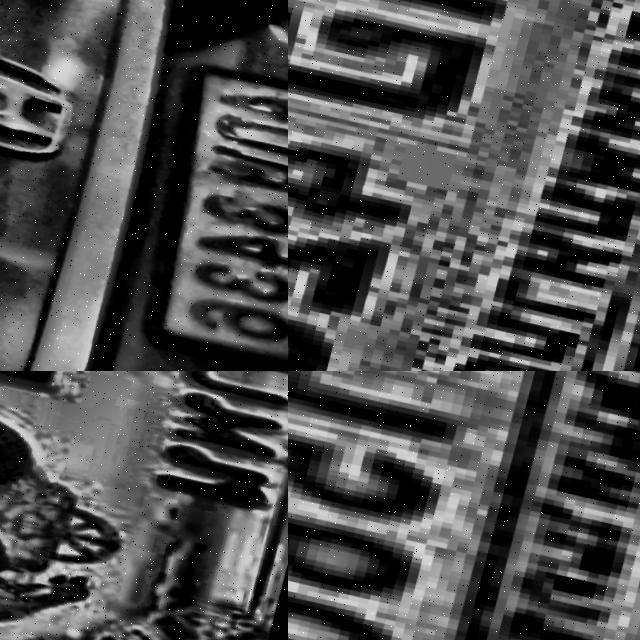license-plate: (288, 0, 640, 371), (288, 371, 640, 640), (0, 371, 288, 640), (139, 63, 288, 371)
